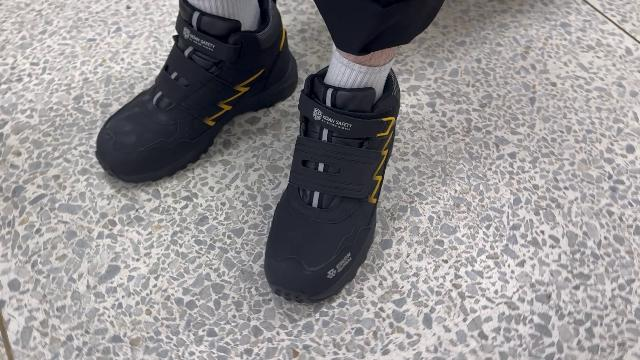shoe_worn: (93, 6, 302, 185), (269, 65, 412, 305)
